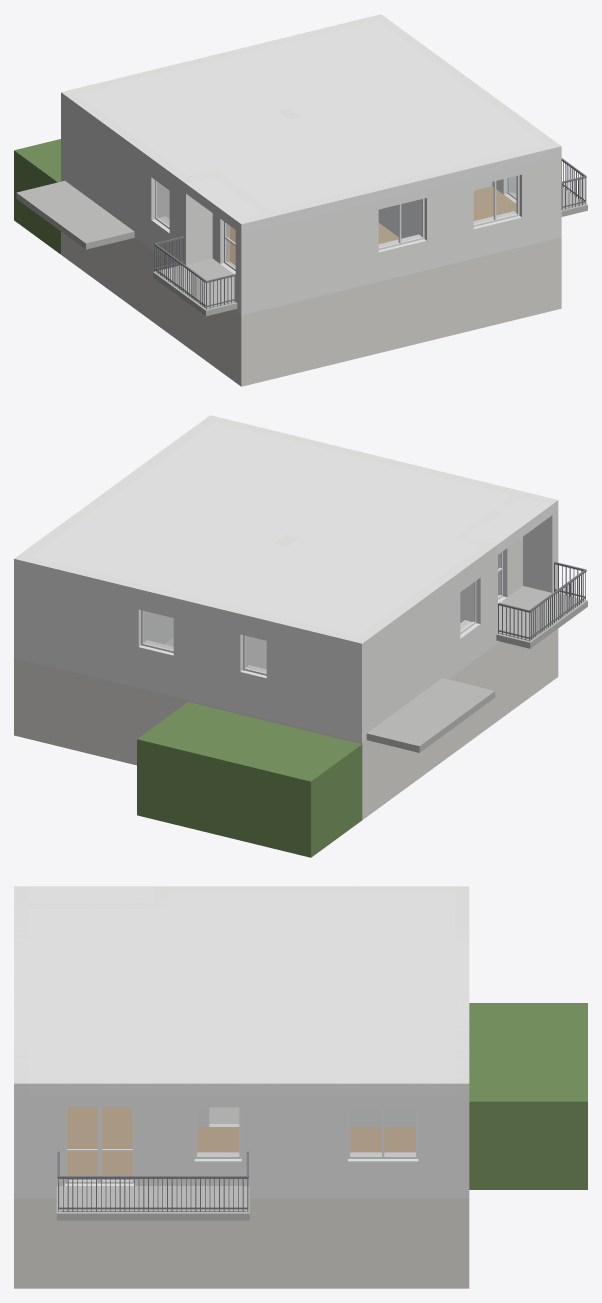
The model's file is KSS29_OG1.glb.
The picture shows the model from 3 angles, top to bottom: view 1: azimuth 30°, elevation 25°; view 2: azimuth 150°, elevation 25°; view 3: azimuth 270°, elevation 25°; orthographic projection. The views are drawn at different scales.
Parts seen in each view (by area): view 1: Decke, EG_Baukoerper, Wand_AW-Sued, Wand_AW-West, Vordach, Flachdach_EG, Wand_AW-Ost, Balkon_Balkon Straße, Gelaender_Gelaender-Balkon2, Fenster_F4, Fenster_F3, Wand_AW-Nord (+8 smaller); view 2: Decke, Wand_AW-Nord, Flachdach_EG, EG_Baukoerper, Wand_AW-West, Vordach, Wand_AW-Sued, Balkon_Balkon Straße, Gelaender_Gelaender-Balkon2, Wand_AW-Ost, Wand_AW-Loggia-Ost, Fenster_F2 (+4 smaller); view 3: Decke, EG_Baukoerper, Wand_AW-Ost, Flachdach_EG, Balkon_Balkon Garten, Boden_Kinderzimmer, Fenster_F7, Wand_AW-Nord, Gelaender_Gelaender-Balkon1, Wand_AW-Sued, Balkontuer_T-B1a, Balkontuer_T-B1b (+7 smaller).
Boxes of the visible parts, x1,y1,x2,y2 form: Decke: (72,15,551,233); EG_Baukoerper: (61,231,561,386); Wand_AW-Sued: (235,142,560,314); Wand_AW-West: (61,90,195,266); Vordach: (16,181,134,249); Flachdach_EG: (14,139,60,254); Wand_AW-Ost: (372,14,561,239); Balkon_Balkon Straße: (153,258,237,316); Gelaender_Gelaender-Balkon2: (154,236,235,309); Fenster_F4: (473,175,519,226); Fenster_F3: (378,198,424,249); Wand_AW-Nord: (61,14,385,96); Decke: (31,417,558,639); Wand_AW-Nord: (14,554,367,742); Flachdach_EG: (137,702,362,857); EG_Baukoerper: (14,629,558,819); Wand_AW-West: (352,542,497,742); Vordach: (366,678,495,752); Wand_AW-Sued: (204,415,558,593); Balkon_Balkon Straße: (496,586,587,648); Gelaender_Gelaender-Balkon2: (498,562,586,641); Wand_AW-Ost: (14,415,218,561); Wand_AW-Loggia-Ost: (458,495,522,603); Fenster_F2: (141,610,173,652); Decke: (14,886,469,1095); EG_Baukoerper: (14,1191,469,1288); Wand_AW-Ost: (28,1078,455,1191); Flachdach_EG: (469,1003,587,1189); Balkon_Balkon Garten: (56,1186,249,1220); Boden_Kinderzimmer: (67,1107,132,1179); Fenster_F7: (348,1107,418,1158); Wand_AW-Nord: (455,886,469,1198); Gelaender_Gelaender-Balkon1: (57,1151,248,1211); Wand_AW-Sued: (14,886,28,1198); Balkontuer_T-B1a: (100,1107,134,1183); Balkontuer_T-B1b: (65,1107,99,1183).
Size of what is drawn, in the model's own units: 15.4 by 5.8 by 14.72.
